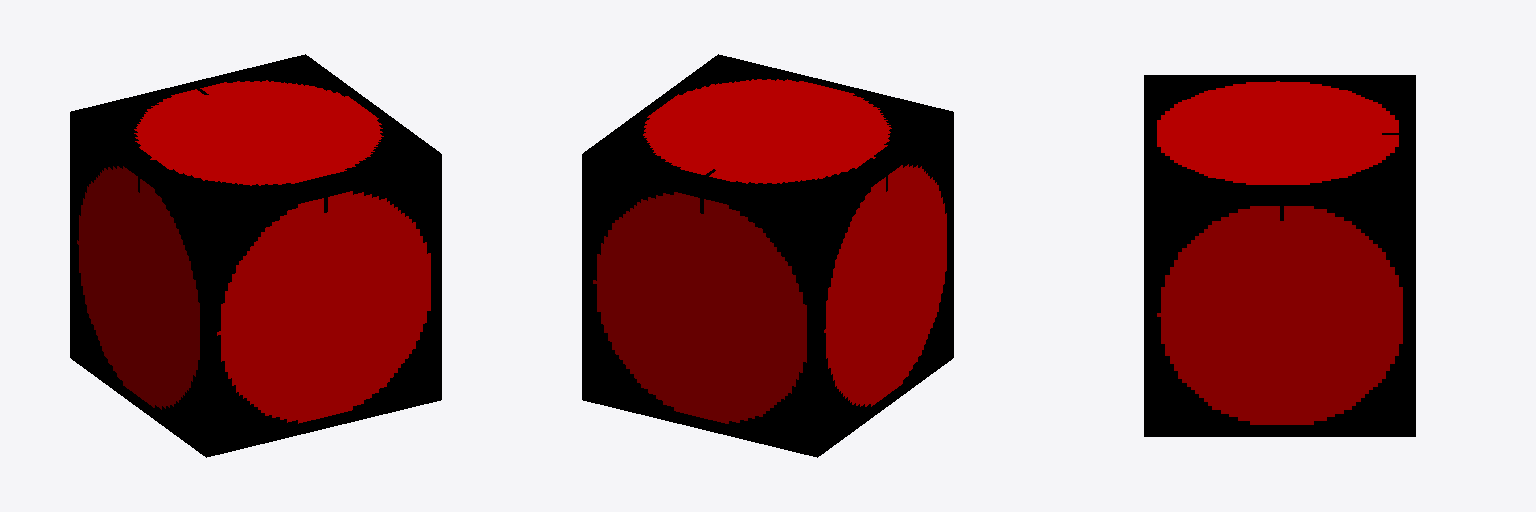
3 views of the same model, side by side, from view 1: azimuth 30°, elevation 25°; view 2: azimuth 150°, elevation 25°; view 3: azimuth 270°, elevation 25° (orthographic).
Parts seen in each view (by area): view 1: apple; view 2: apple; view 3: apple.
Boxes of the visible parts, x1=… form: apple: x1=70, y1=54, x2=441, y2=457; apple: x1=582, y1=54, x2=953, y2=457; apple: x1=1144, y1=75, x2=1415, y2=436.
Size of the model in its own units: 1 by 1 by 1.
1 materials, 1 textured.